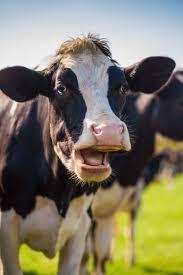cow: (0, 35, 176, 275), (79, 62, 183, 275)
